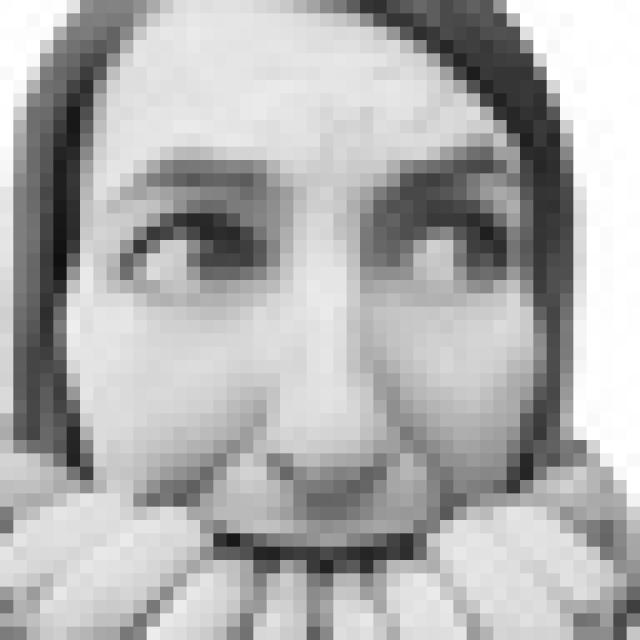fear: (110, 145, 532, 640)
